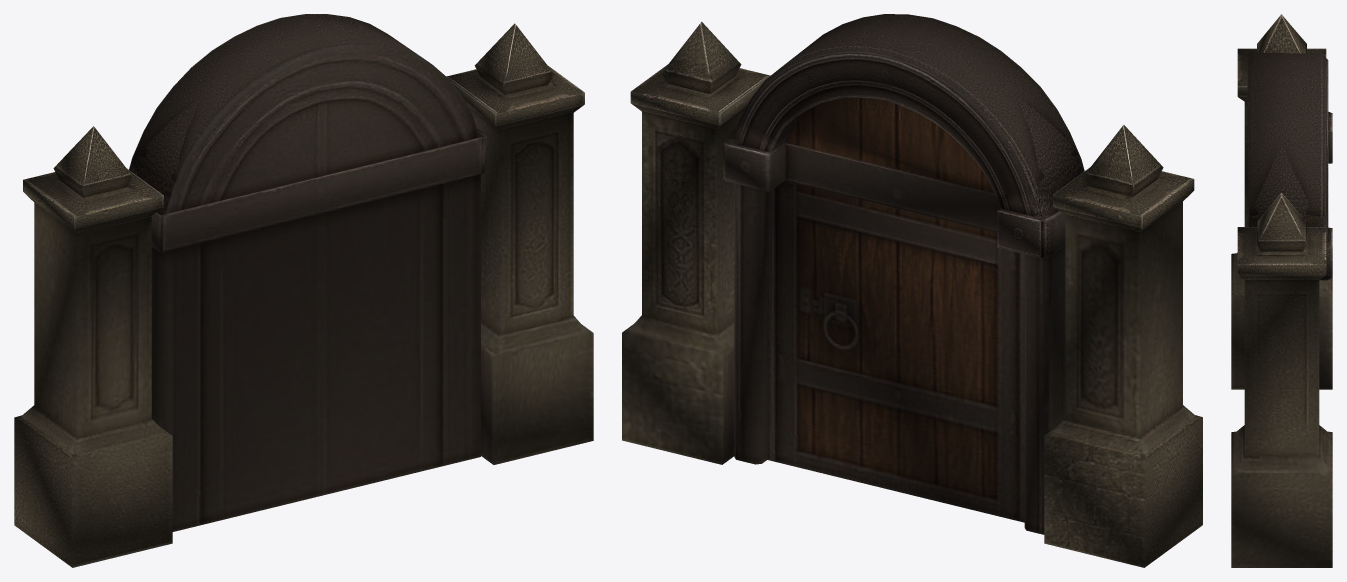
The model's file is guilddoor.glb.
3 views of the same model, side by side, from view 1: azimuth 30°, elevation 25°; view 2: azimuth 150°, elevation 25°; view 3: azimuth 270°, elevation 25° (orthographic). The views are drawn at different scales.
Visible parts, largest first — view 1: tripo_node_ae223ffe; view 2: tripo_node_ae223ffe; view 3: tripo_node_ae223ffe.
Part boxes in pixels (box(x1,y1,x2,y2)): tripo_node_ae223ffe: box(14, 14, 593, 567); tripo_node_ae223ffe: box(622, 14, 1202, 567); tripo_node_ae223ffe: box(1231, 14, 1332, 567).
Bounding box in the file's own units: 3.57 × 2.94 × 0.6908.
Materials: 1 (1 with a texture image).
